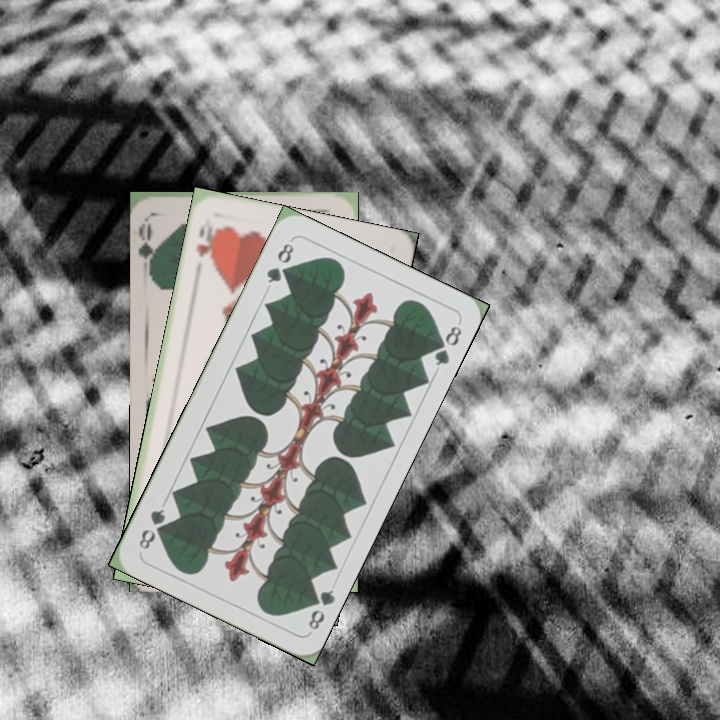G8: (302, 585, 338, 633), (262, 239, 297, 286)
GO: (137, 216, 164, 275)
HO: (192, 219, 221, 261)
